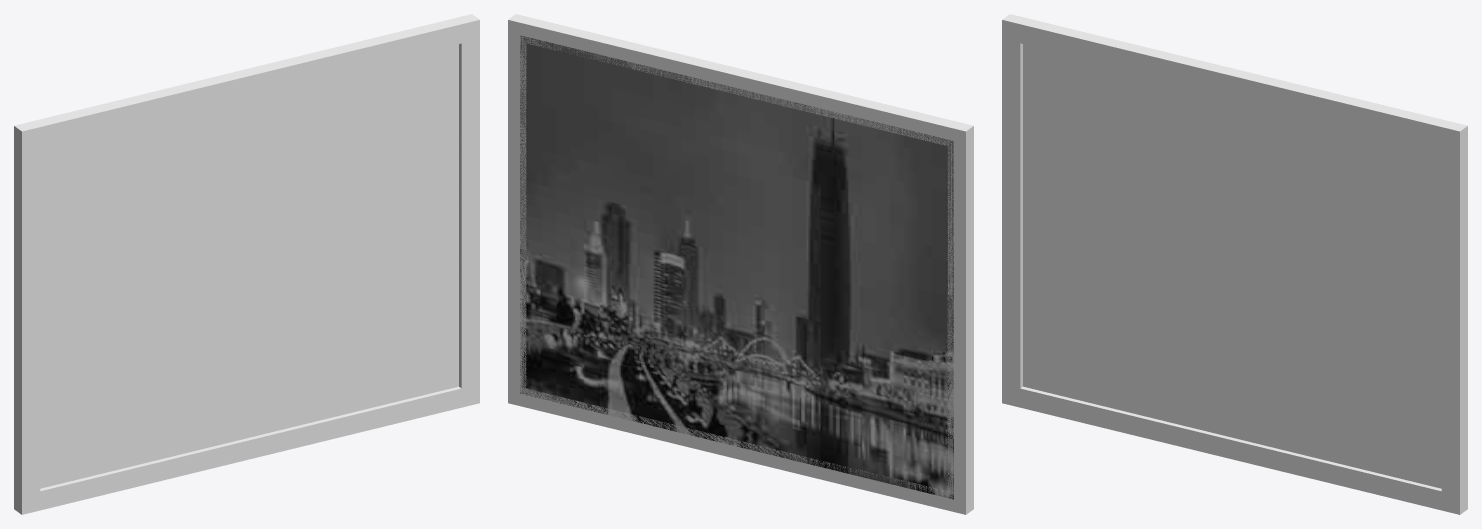
The model's file is Quadro.dae.
3 renders of one model, left to right at view 1: azimuth 30°, elevation 25°; view 2: azimuth 150°, elevation 25°; view 3: azimuth 330°, elevation 25°, orthographic.
Visible parts, largest first — view 1: Quadro_2_Vidro, Quadro_1_Moldura; view 2: Quadro_3_Imagem, Quadro_1_Moldura; view 3: Quadro_2_Vidro, Quadro_1_Moldura.
Boxes of the visible parts, x1=… form: Quadro_2_Vidro: x1=40, y1=44, x2=458, y2=488; Quadro_1_Moldura: x1=14, y1=14, x2=479, y2=514; Quadro_3_Imagem: x1=520, y1=35, x2=953, y2=499; Quadro_1_Moldura: x1=508, y1=14, x2=973, y2=514; Quadro_2_Vidro: x1=1023, y1=44, x2=1441, y2=488; Quadro_1_Moldura: x1=1002, y1=14, x2=1467, y2=514.
Size of the model in its own units: 0.5 by 0.4 by 0.015.
Materials: 3 (2 with a texture image).
